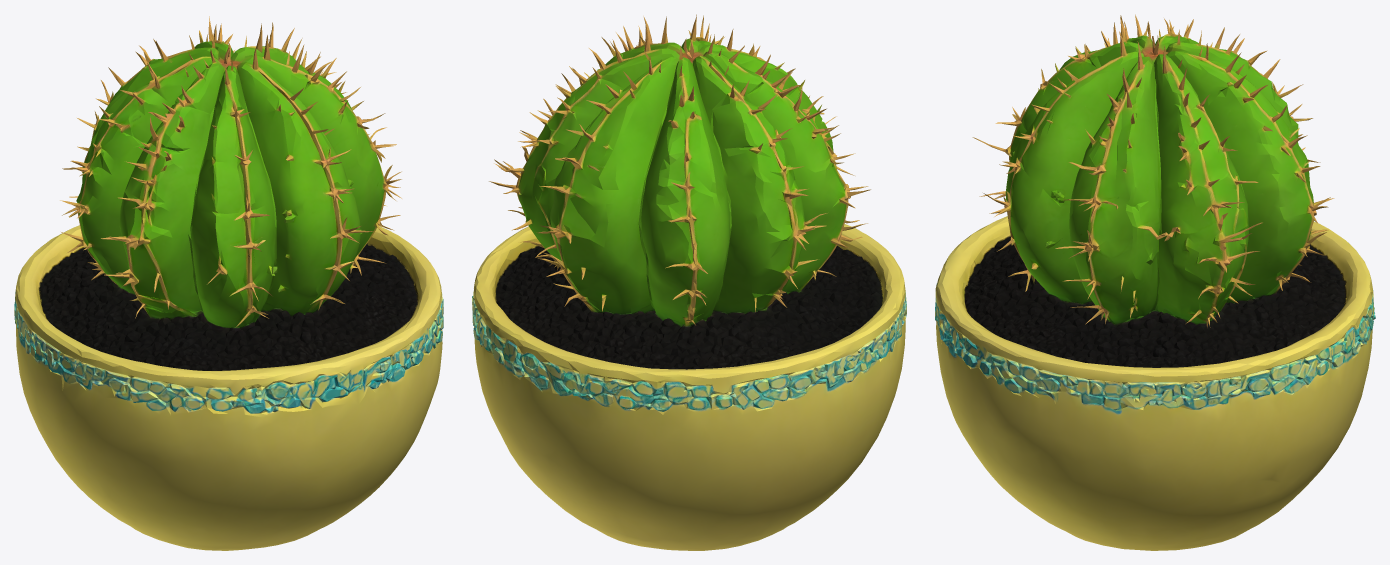
Rendered from cactus.glb.
3 views of the same model, side by side, from view 1: azimuth 30°, elevation 25°; view 2: azimuth 150°, elevation 25°; view 3: azimuth 270°, elevation 25° (orthographic). The views are drawn at different scales.
Parts seen in each view (by area): view 1: model; view 2: model; view 3: model.
Part boxes in pixels (box(x1,y1,x2,y2)): model: box(14, 16, 443, 550); model: box(472, 14, 906, 550); model: box(935, 14, 1375, 550).
Size of the model in its own units: 1.55 by 1.88 by 1.56.
Materials: 1 (1 with a texture image).
